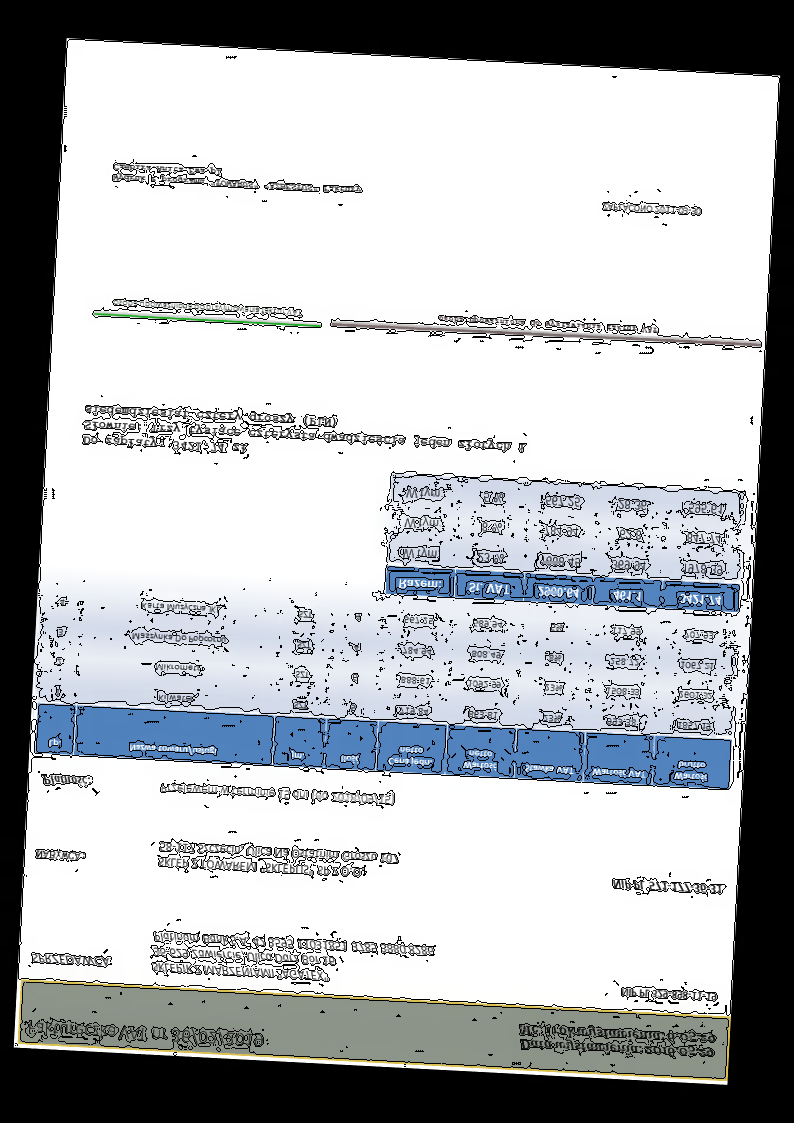Table: (33, 578, 738, 790), (384, 472, 745, 613)
TextBox: (79, 400, 531, 472), (147, 924, 437, 991), (155, 838, 401, 882), (109, 158, 367, 196), (514, 1018, 719, 1064), (23, 1017, 266, 1053), (158, 779, 397, 807), (436, 313, 660, 337), (109, 296, 304, 319), (610, 876, 724, 897), (617, 983, 717, 1006), (27, 948, 114, 972), (600, 200, 704, 219), (32, 846, 87, 865), (39, 772, 93, 790)
